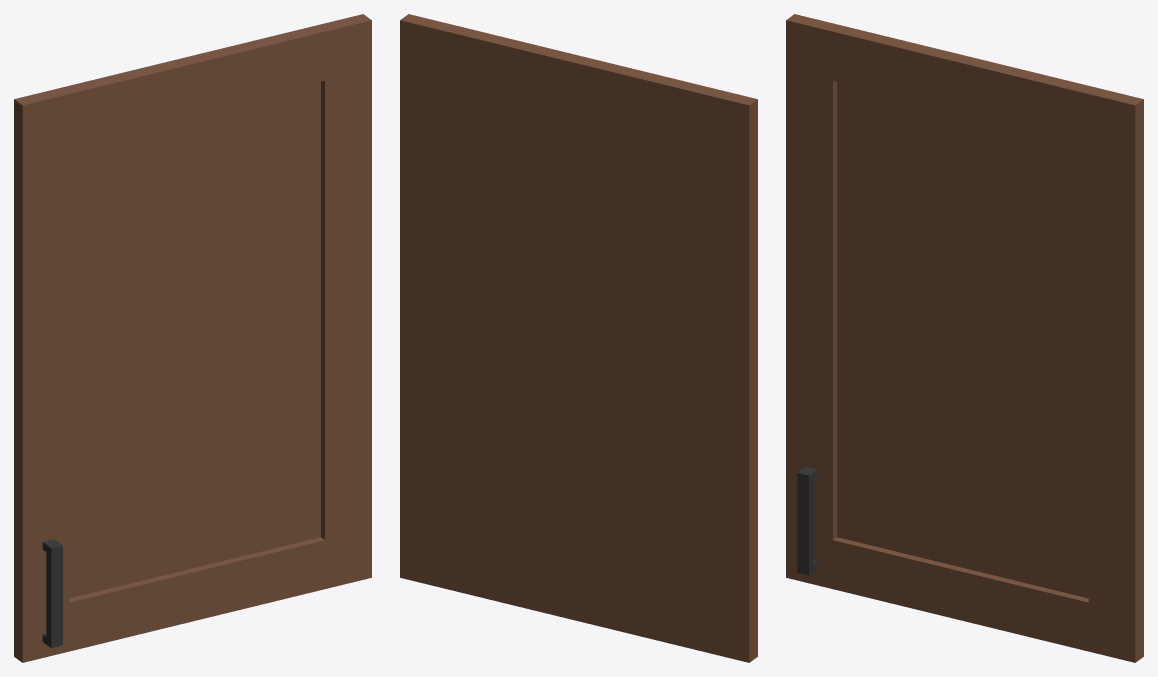
File: Door2_C2_11.fbx
3 renders of one model, left to right at view 1: azimuth 30°, elevation 25°; view 2: azimuth 150°, elevation 25°; view 3: azimuth 330°, elevation 25°, orthographic.
Parts seen in each view (by area): view 1: Door2_C2_11; view 2: Door2_C2_11; view 3: Door2_C2_11.
Boxes of the visible parts, x1=… form: Door2_C2_11: x1=14, y1=14, x2=371, y2=662; Door2_C2_11: x1=400, y1=14, x2=757, y2=662; Door2_C2_11: x1=786, y1=14, x2=1143, y2=662.
Size of the model in its own units: 59 by 90 by 5.03.
